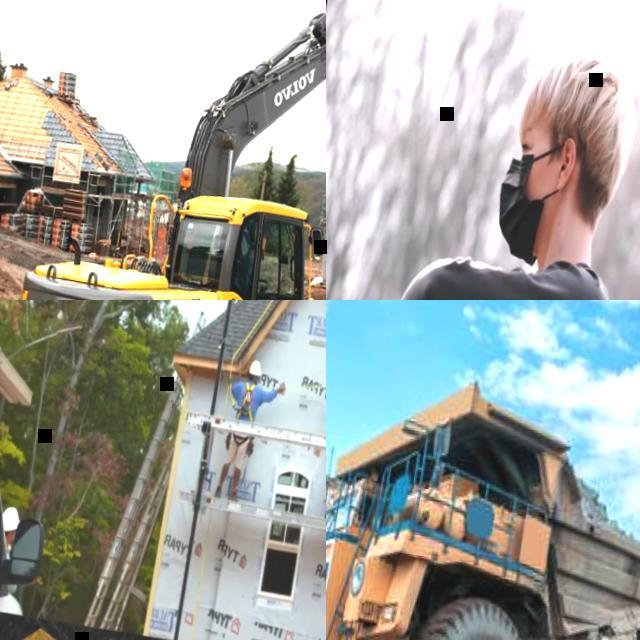helmet: (0, 505, 21, 533), (247, 358, 263, 376)
vest: (234, 252, 255, 288)
